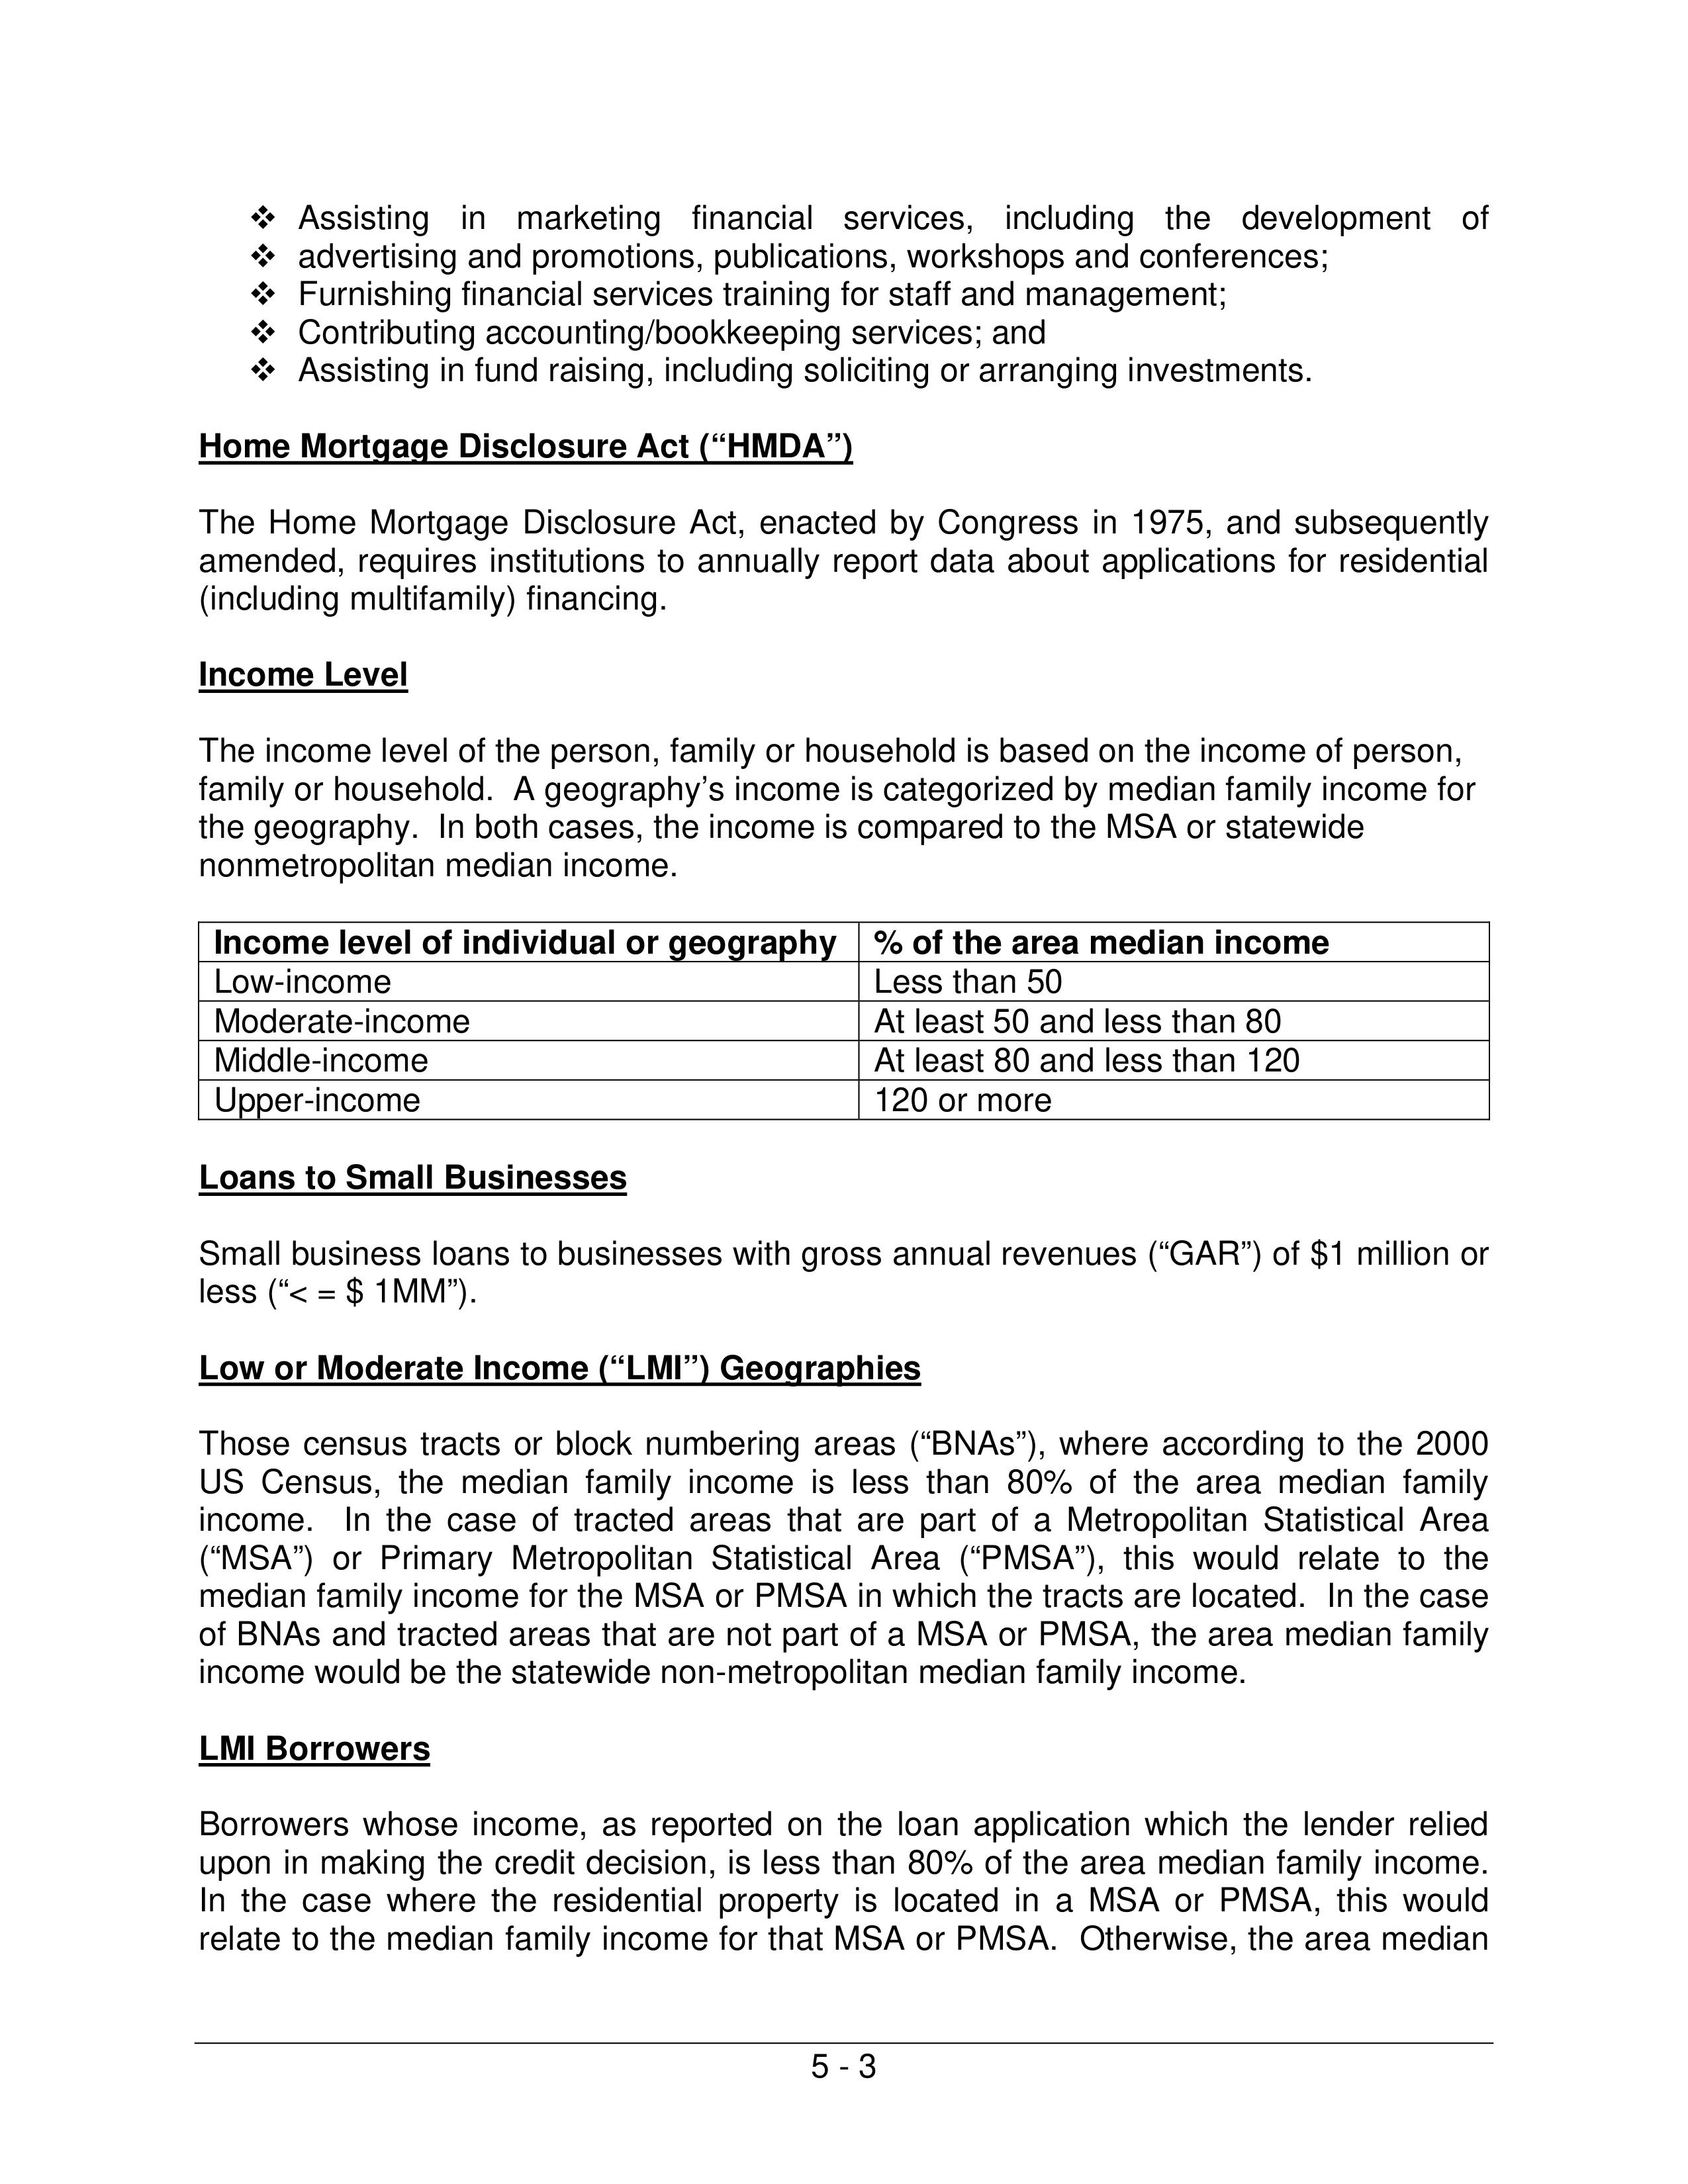table: (213, 918, 1330, 1120)
